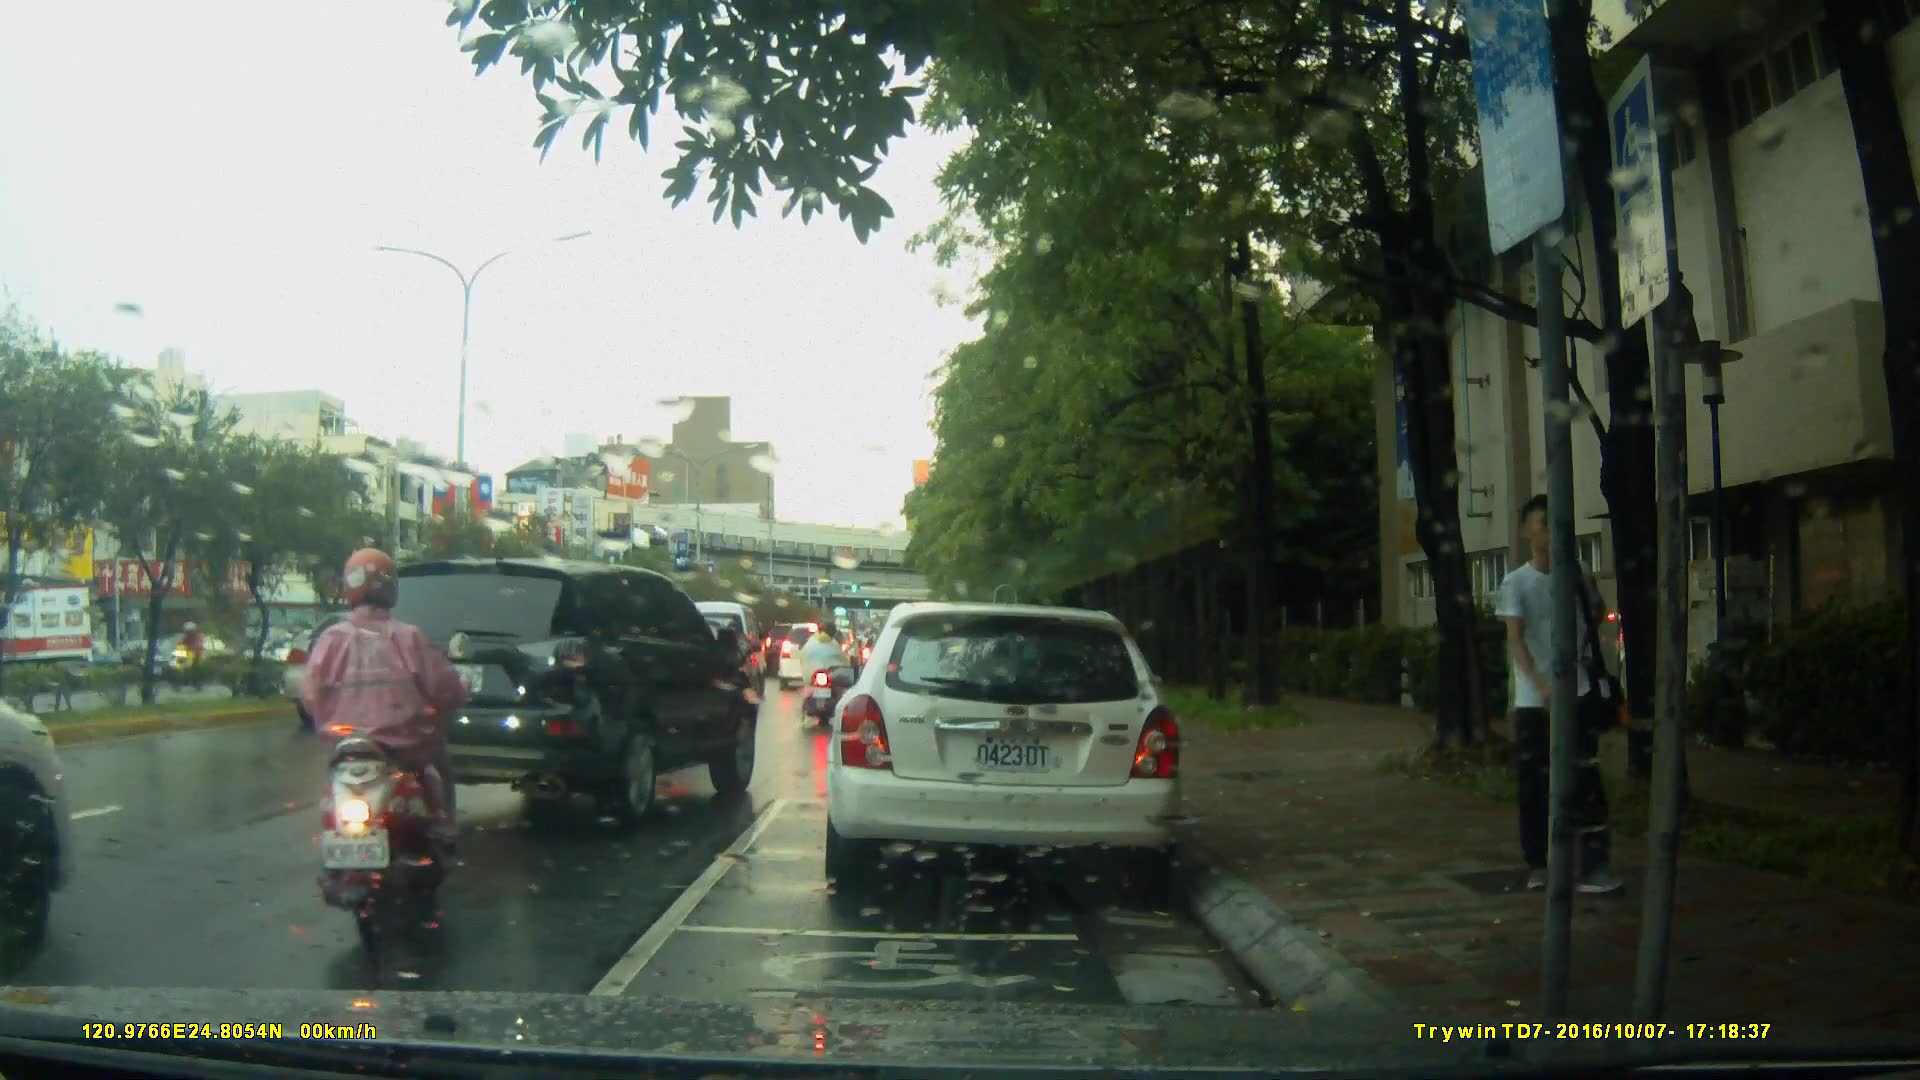pedestrian: (1479, 486, 1624, 914)
rider: (288, 545, 473, 945), (800, 622, 857, 729), (814, 625, 854, 700)
vehicle: (820, 602, 1188, 898), (359, 557, 762, 825), (134, 631, 242, 686), (777, 621, 852, 694)
